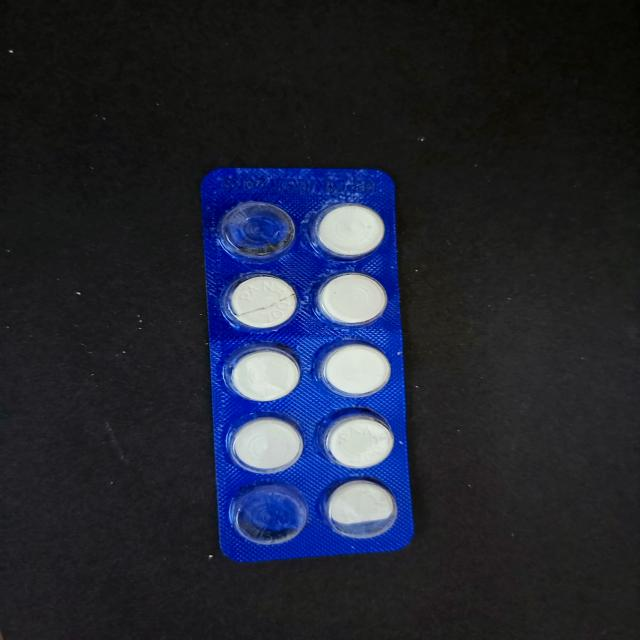defect: (225, 481, 311, 548), (213, 198, 300, 262), (320, 476, 402, 542), (220, 270, 303, 334)
